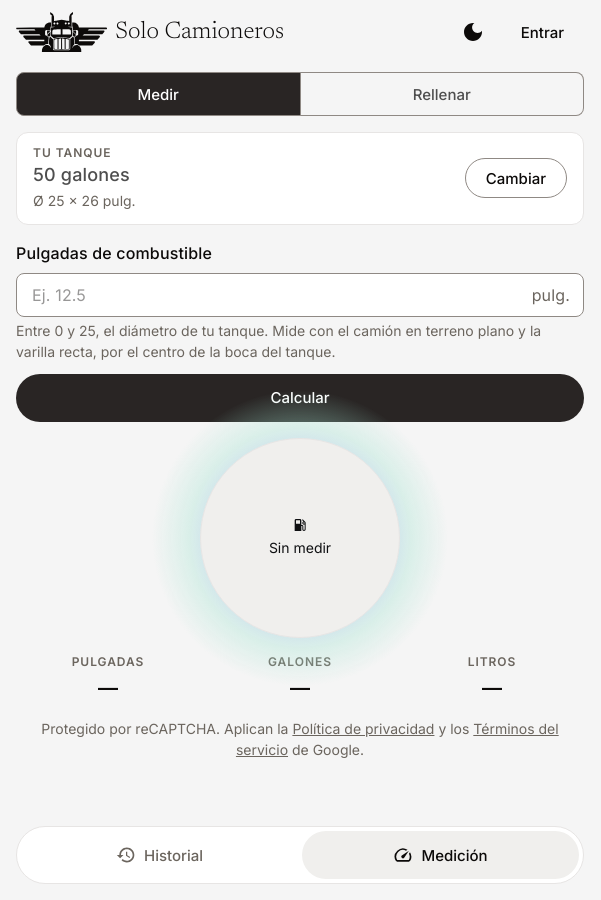
Test: explains an invalid value  under the field
What coordinates should you click on to do the following:
click the button "Calcular"
I would click on:
 (300, 398)
Its box is left=16, top=374, right=584, bottom=422.
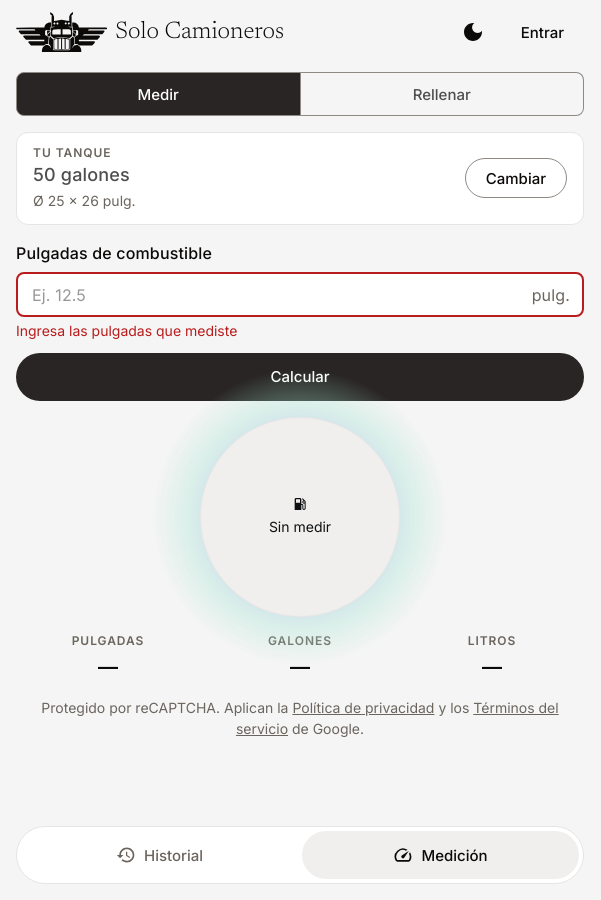
Expected: the text "Ingresa las pulgadas que mediste" is shown, left=16, top=322, right=237, bottom=339
